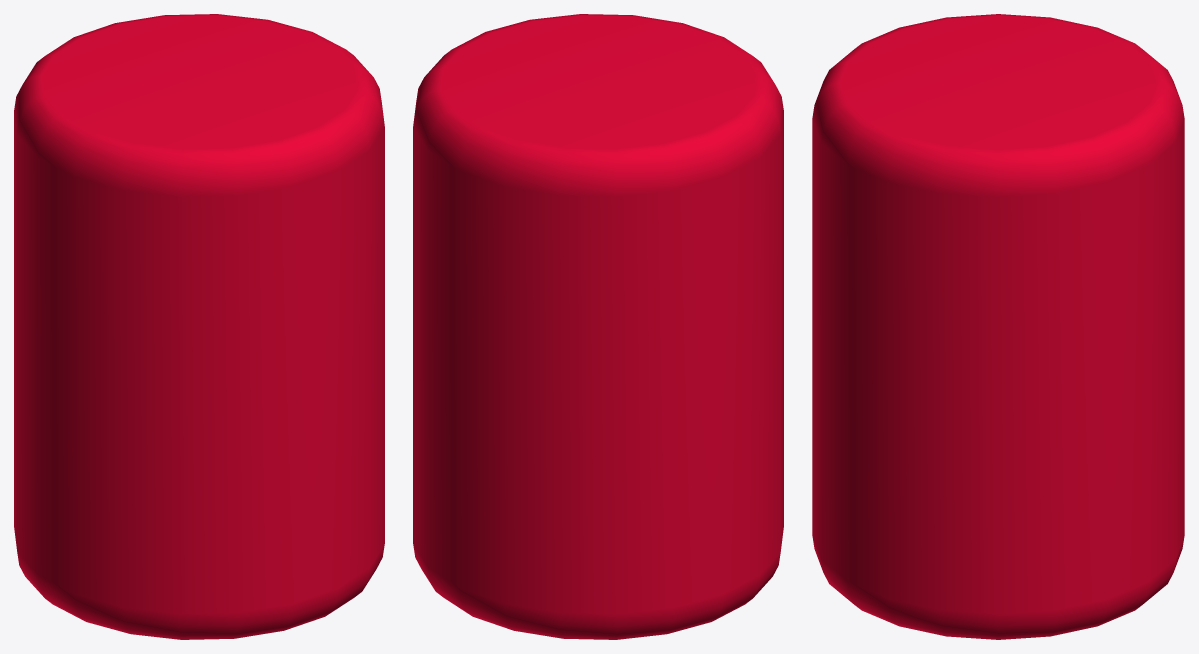
The model's file is Cylinderalone.fbx.
3 views of the same model, side by side, from view 1: azimuth 30°, elevation 25°; view 2: azimuth 150°, elevation 25°; view 3: azimuth 270°, elevation 25° (orthographic).
Visible parts, largest first — view 1: pCylinder3; view 2: pCylinder3; view 3: pCylinder3.
Part boxes in pixels (box(x1,y1,x2,y2)): pCylinder3: box(14, 14, 384, 639); pCylinder3: box(413, 14, 783, 639); pCylinder3: box(812, 14, 1184, 639).
Size of the model in its own units: 15.27 by 22.12 by 15.27.
